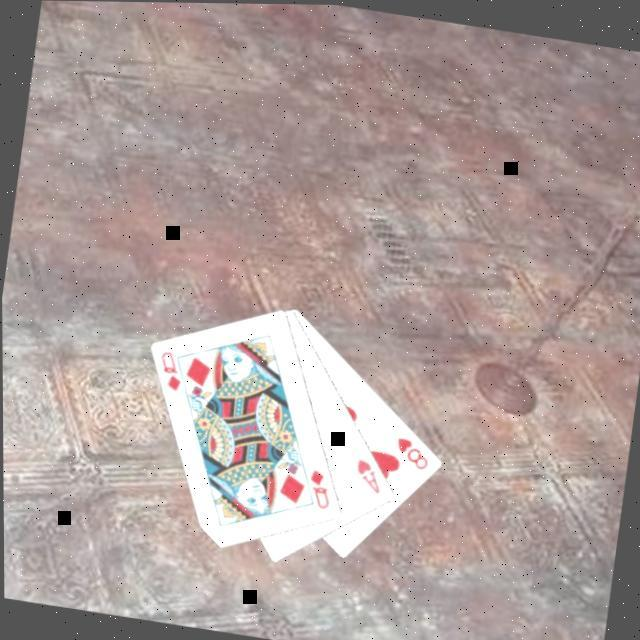8H: (389, 432, 433, 473)
AH: (348, 454, 386, 497)
QD: (150, 346, 187, 396), (300, 465, 336, 513)
